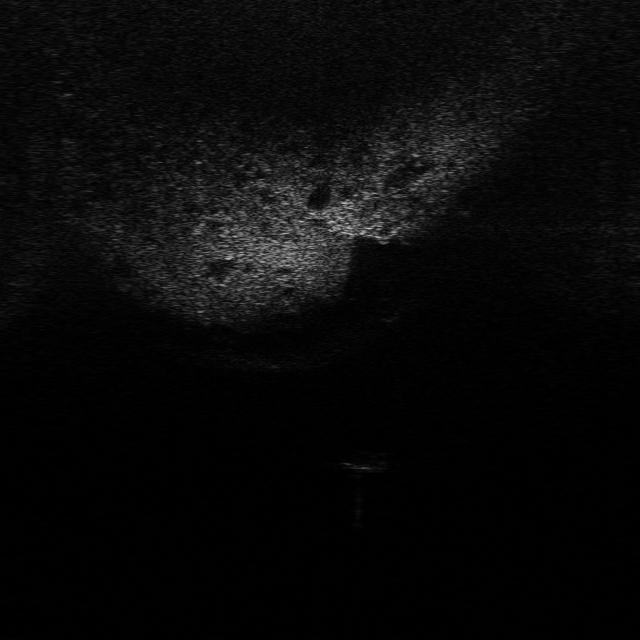ball: (368, 295, 404, 323)
cube: (329, 447, 392, 476)
